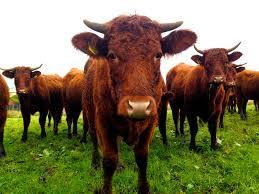cow: (72, 15, 196, 194), (169, 47, 242, 148), (4, 66, 65, 141), (221, 61, 246, 128), (64, 67, 88, 136)
